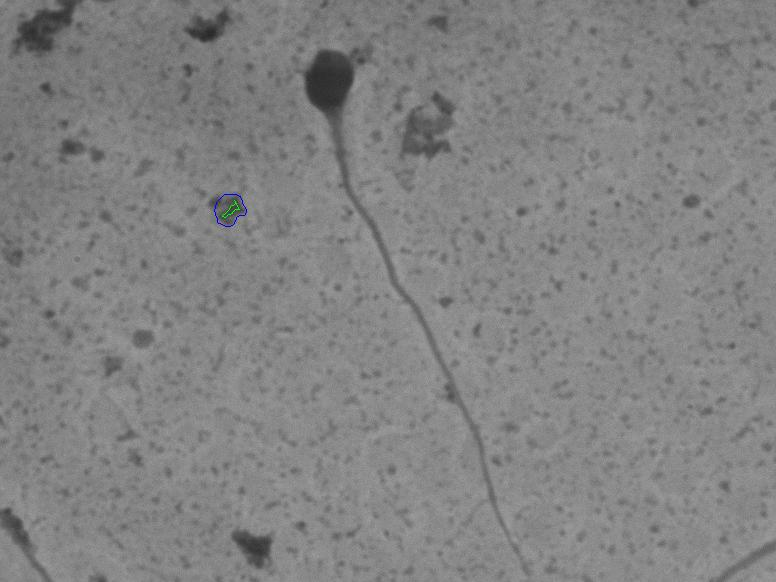Abnormal: (292, 28, 545, 556)
